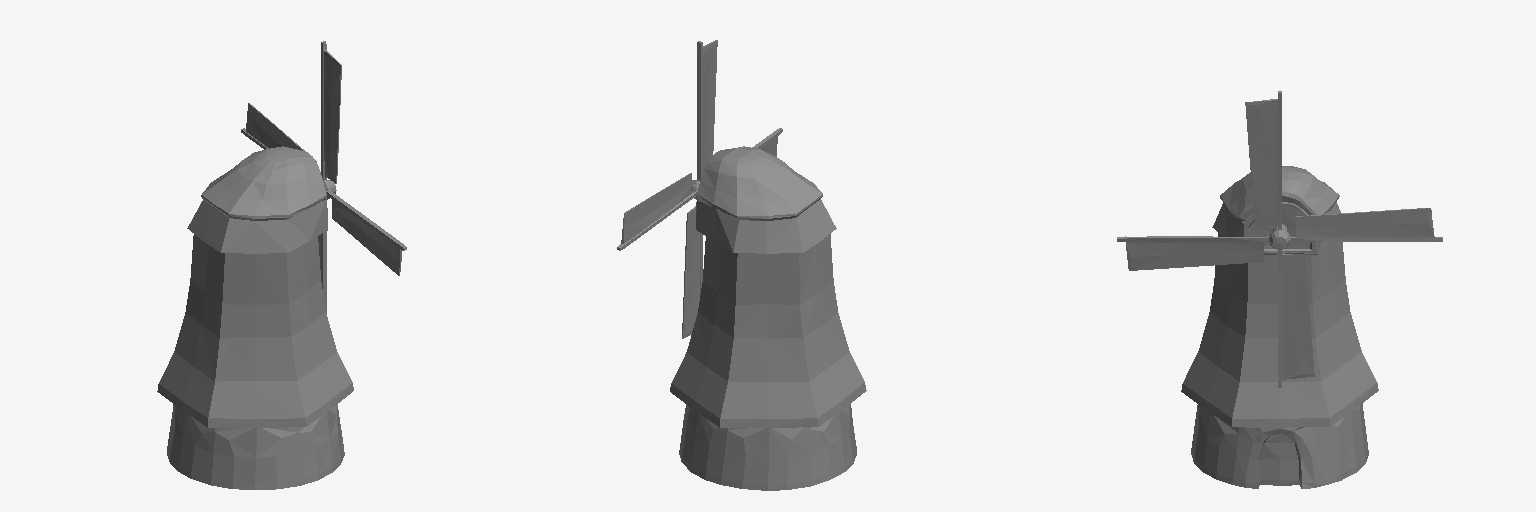
File: Wind_Mill.obj
3 renders of one model, left to right at view 1: azimuth 30°, elevation 25°; view 2: azimuth 150°, elevation 25°; view 3: azimuth 270°, elevation 25°, orthographic.
Visible parts, largest first — view 1: Mill_Body, Mill_Vanes; view 2: Mill_Body, Mill_Vanes; view 3: Mill_Body, Mill_Vanes.
Part boxes in pixels (x1,y1,x2,y2): Mill_Body: (157,146,353,489); Mill_Vanes: (241,41,406,313); Mill_Body: (670,146,866,490); Mill_Vanes: (617,40,782,338); Mill_Body: (1181,166,1378,488); Mill_Vanes: (1117,91,1442,387).
Size of the model in its own units: 3.87 by 9.45 by 7.06.